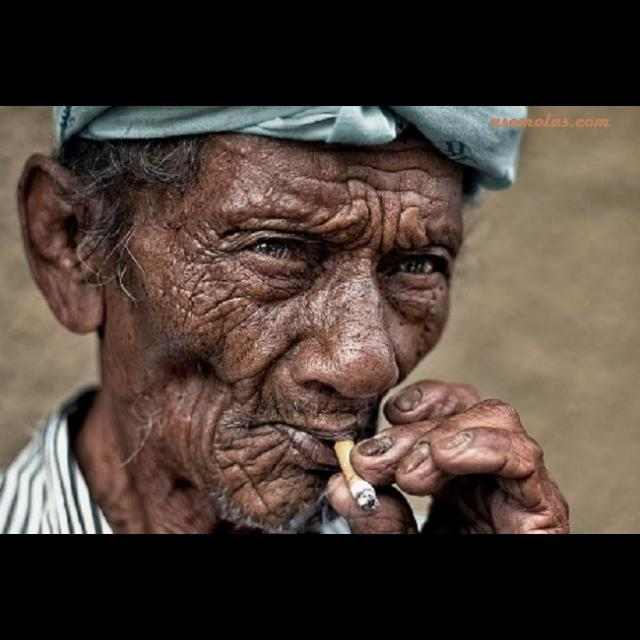rokok: (328, 432, 374, 512)
